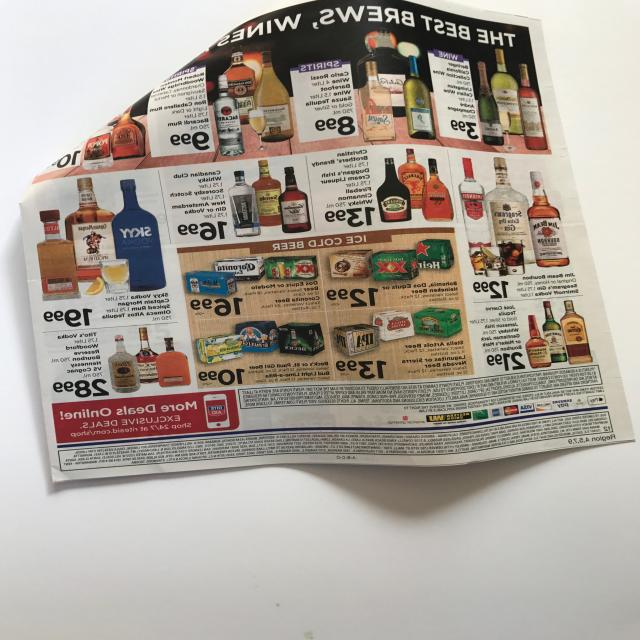paper: (6, 0, 640, 522)
